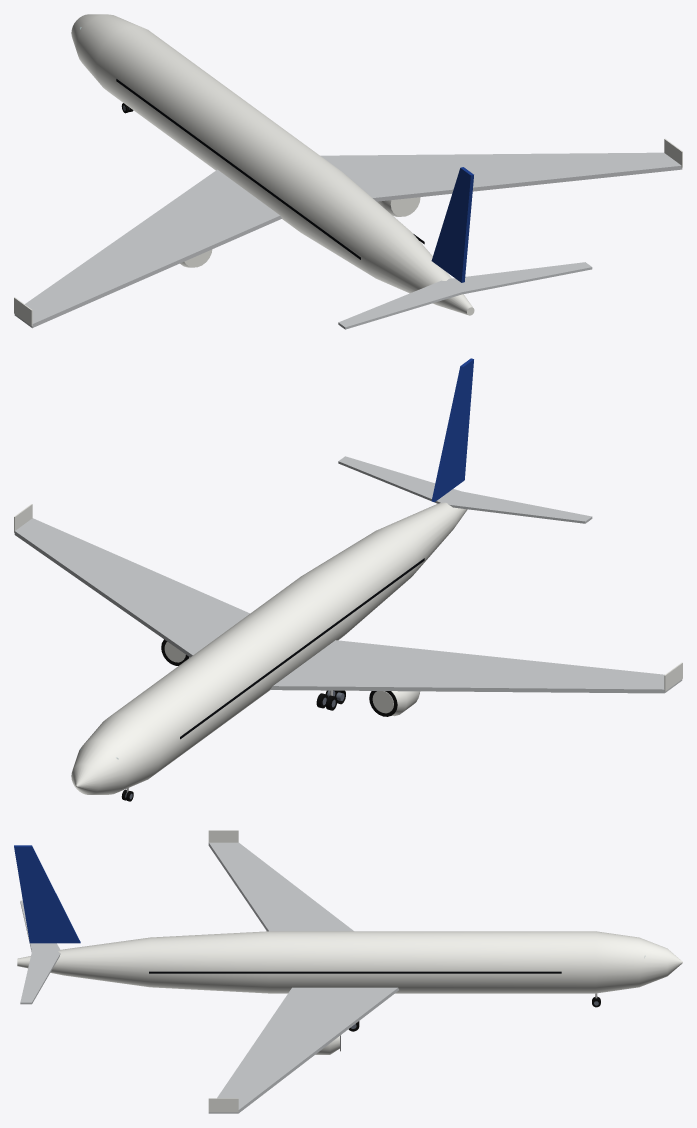
File: airport.aircraft.wide_body.glb
3 views of the same model, one above another, from view 1: azimuth 30°, elevation 25°; view 2: azimuth 150°, elevation 25°; view 3: azimuth 270°, elevation 25° (orthographic). The views are drawn at different scales.
Parts seen in each view (by area): view 1: fuselage__paint_white, wings__aluminium, wings__plastic_blue, engines__paint_white, fuselage__screen, wings__paint_white; view 2: fuselage__paint_white, wings__aluminium, wings__plastic_blue, engines__paint_white, fuselage__screen; view 3: fuselage__paint_white, wings__aluminium, wings__plastic_blue, fuselage__screen, wings__paint_white.
Part boxes in pixels (x1,y1,x2,y2): fuselage__paint_white: (71, 14, 474, 315); wings__aluminium: (14, 152, 682, 329); wings__plastic_blue: (431, 167, 473, 282); engines__paint_white: (180, 197, 420, 267); fuselage__screen: (116, 79, 424, 259); wings__paint_white: (14, 138, 682, 326); fuselage__paint_white: (71, 502, 467, 794); wings__aluminium: (14, 456, 682, 693); wings__plastic_blue: (431, 358, 473, 502); engines__paint_white: (164, 642, 420, 716); fuselage__screen: (180, 558, 424, 739); fuselage__paint_white: (17, 931, 682, 993); wings__aluminium: (20, 842, 398, 1113); wings__plastic_blue: (14, 845, 80, 943); fuselage__screen: (149, 971, 561, 973); wings__paint_white: (208, 830, 238, 1112).
Size of the model in its own units: 60.1 by 17.16 by 63.3.
